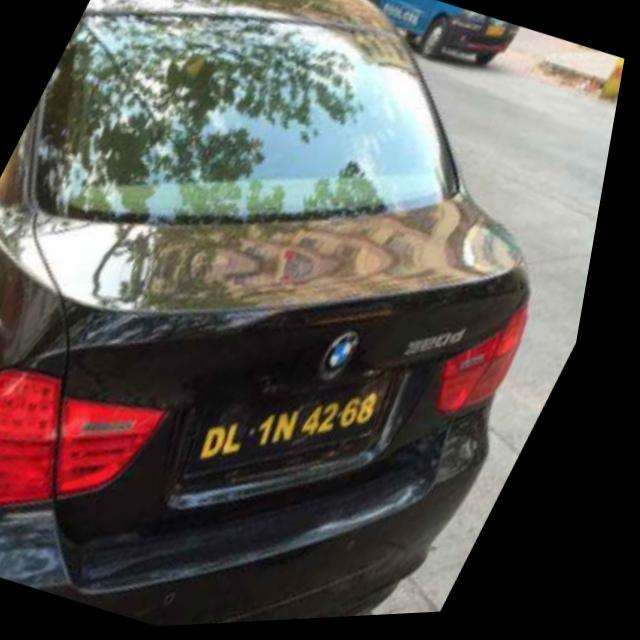license_plate: (173, 314, 426, 554)
